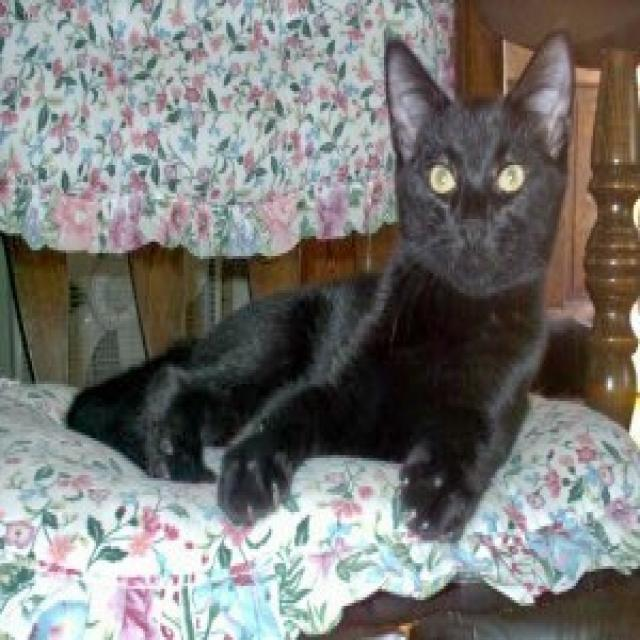Bombay: (378, 30, 578, 307)
